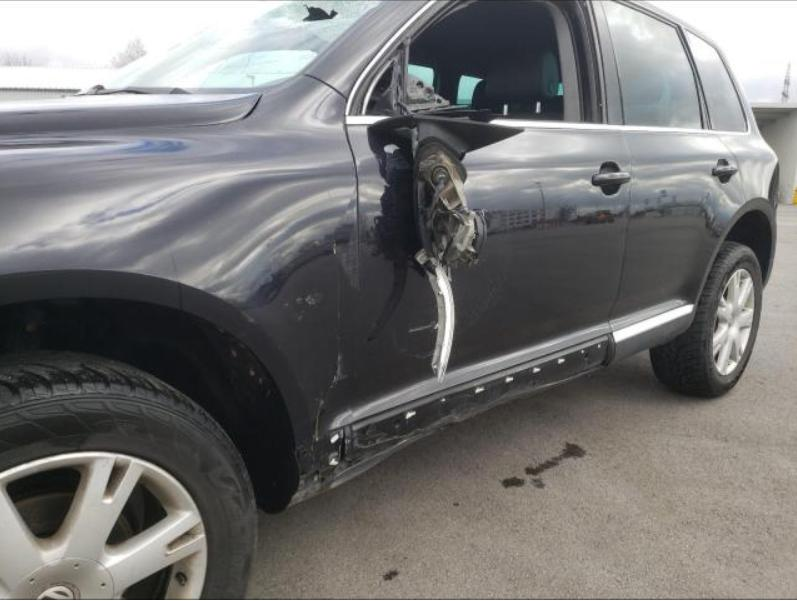Back-door: (603, 0, 747, 332)
Back-wheel: (649, 241, 763, 397)
Back-window: (603, 0, 703, 127), (684, 29, 746, 132)
Fender: (0, 75, 359, 448)
Front-door: (347, 0, 630, 423)
Front-wheel: (0, 350, 260, 599)
Hood: (0, 93, 260, 134)
Mirror: (368, 117, 523, 379)
Quarter-panel: (711, 130, 780, 288)
Rocker-panel: (282, 301, 699, 511)
Roof: (622, 0, 719, 46)
Windshield: (90, 0, 380, 92)
